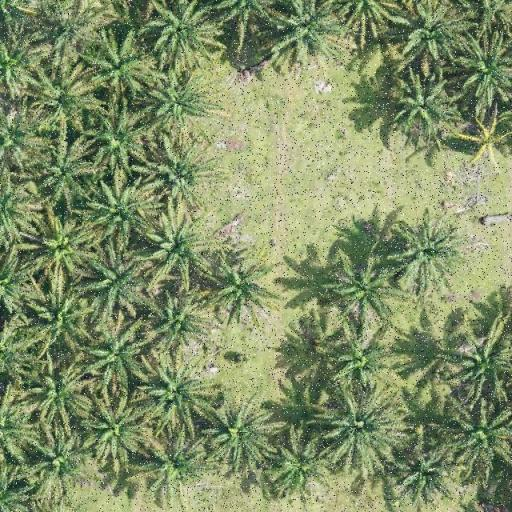Ganoderma: (216, 266, 264, 312), (466, 119, 510, 160)
